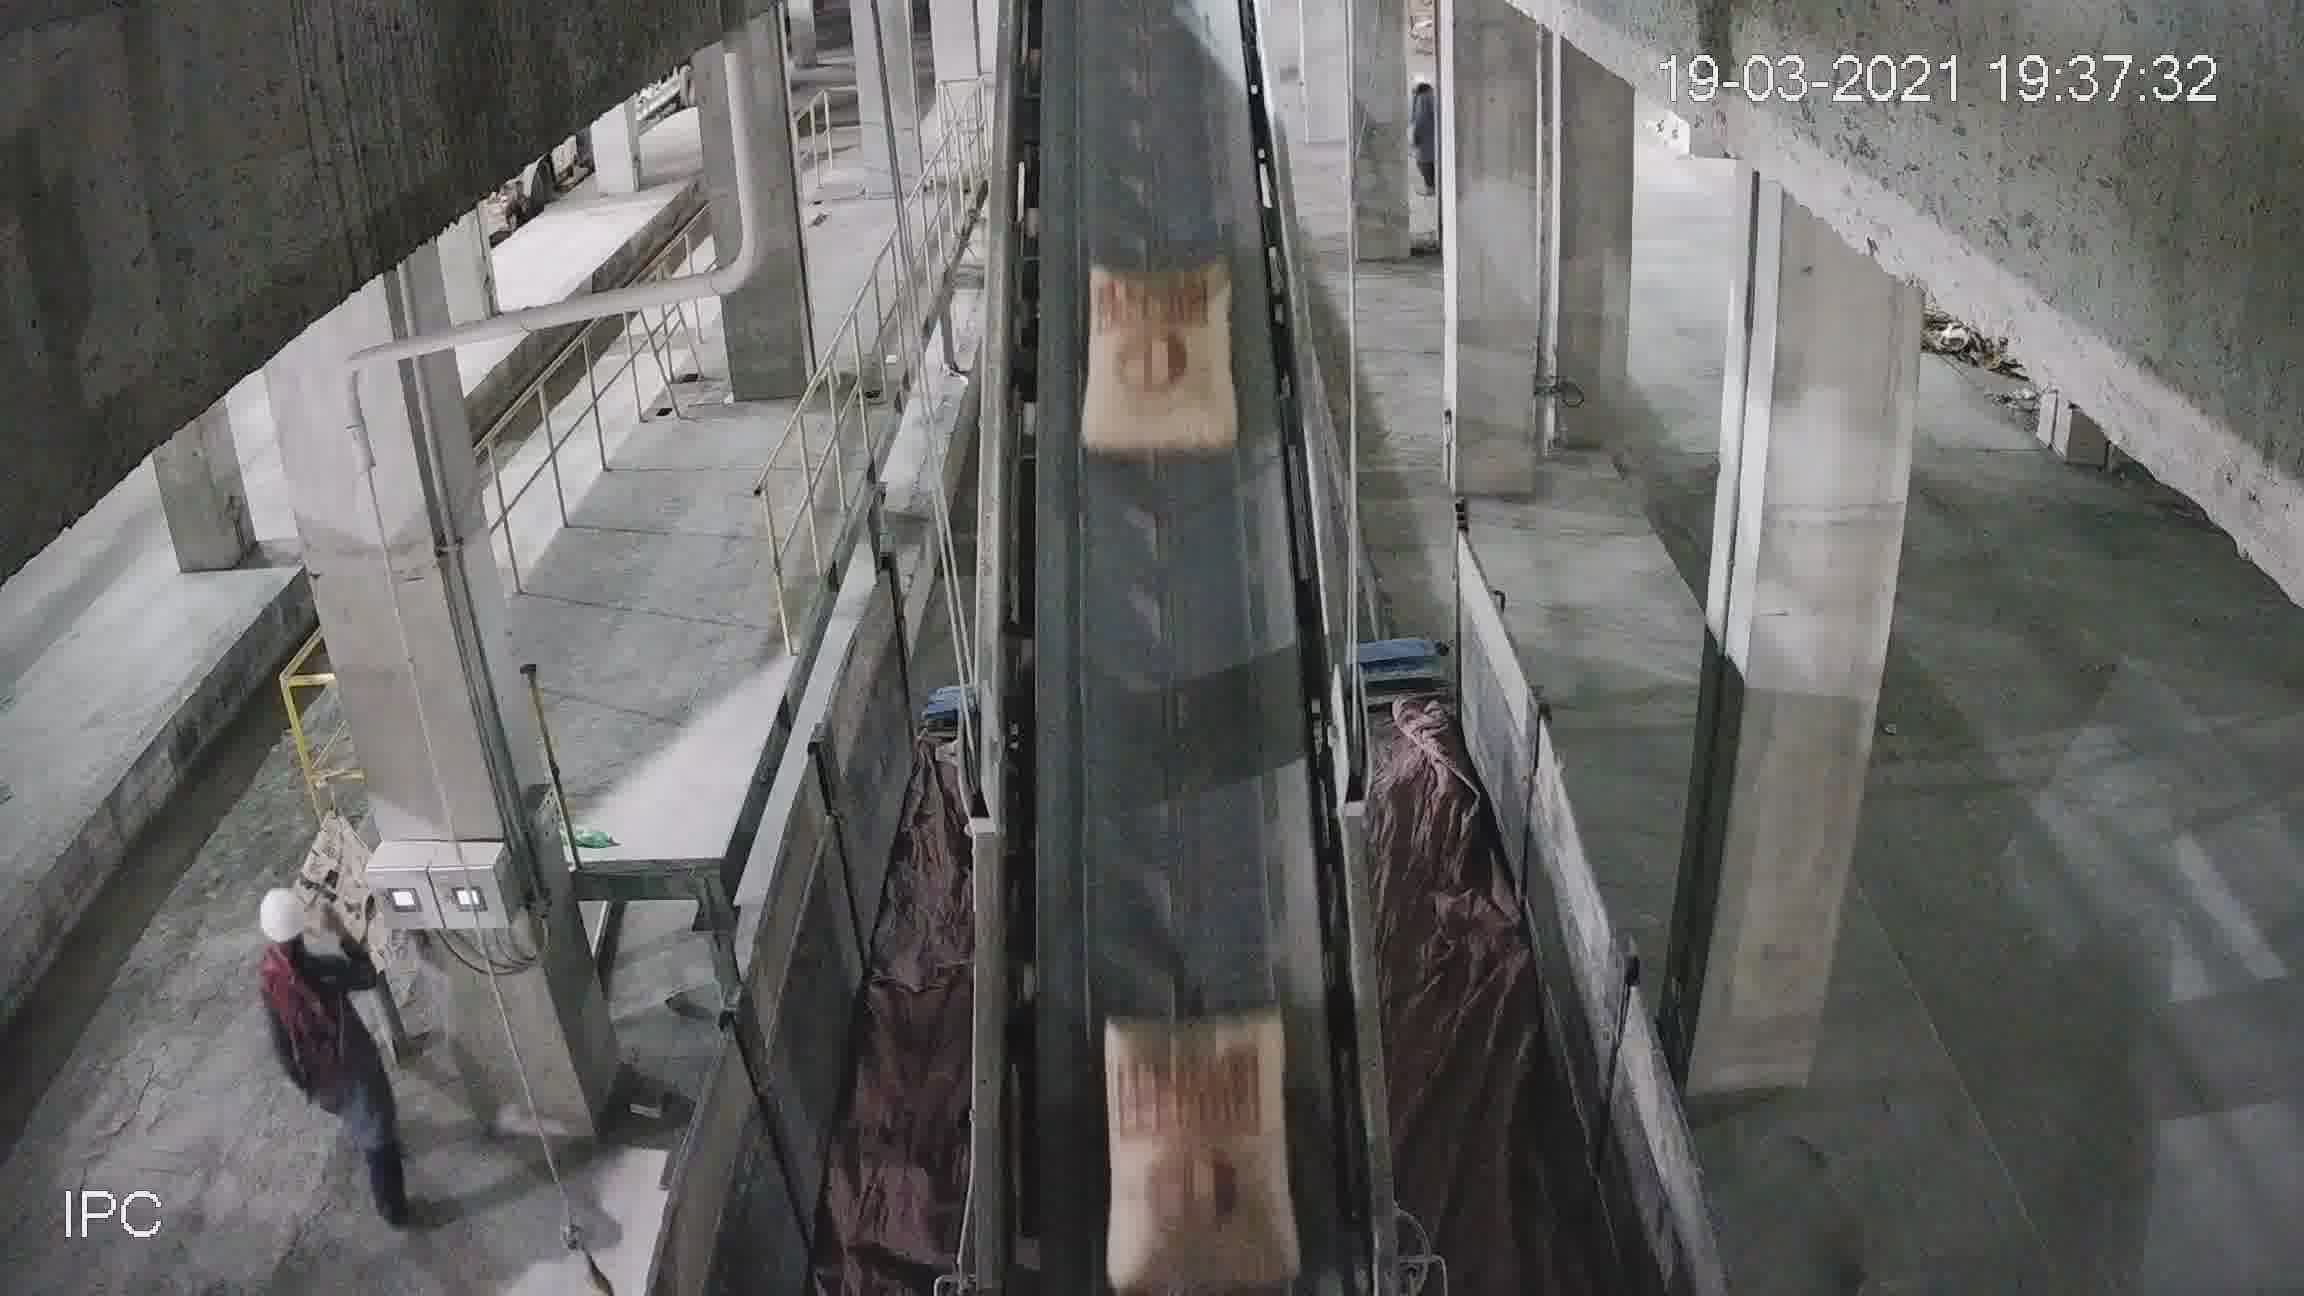bag: (1100, 1003, 1285, 1245), (1086, 274, 1237, 457)
belt: (980, 119, 1362, 1192)
